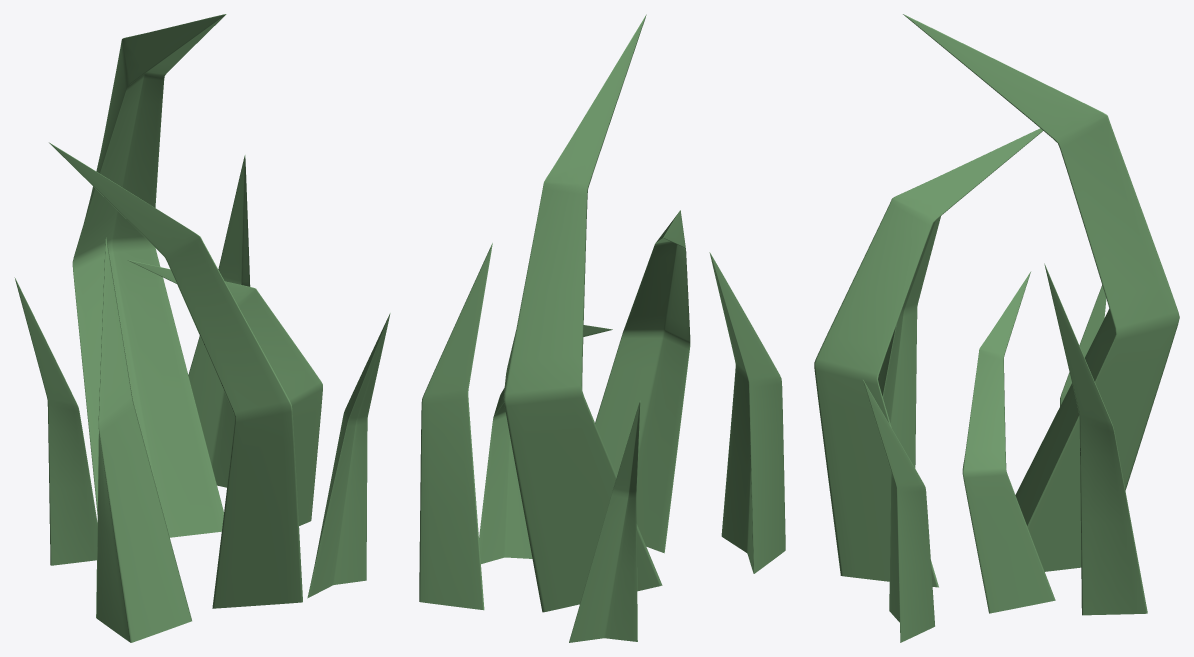
The model's file is Grass 1.fbx.
3 renders of one model, left to right at view 1: azimuth 30°, elevation 25°; view 2: azimuth 150°, elevation 25°; view 3: azimuth 270°, elevation 25°, orthographic. The views are drawn at different scales.
Visible parts, largest first — view 1: Plane.001; view 2: Plane.001; view 3: Plane.001.
Part boxes in pixels (x1,y1,x2,y2): Plane.001: (14,14,390,642); Plane.001: (419,14,785,642); Plane.001: (814,14,1179,642).
Size of the model in its own units: 116 by 238 by 139.
